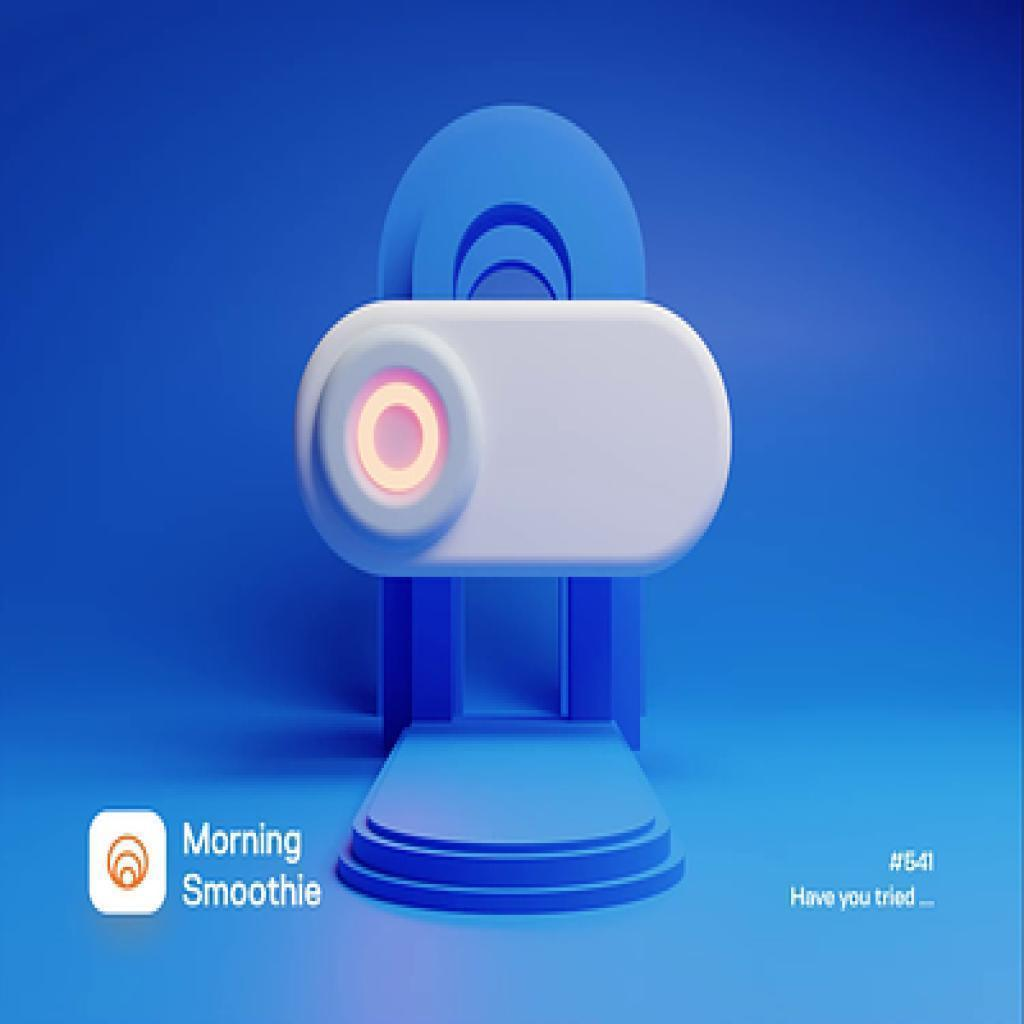switch: (292, 298, 730, 580)
